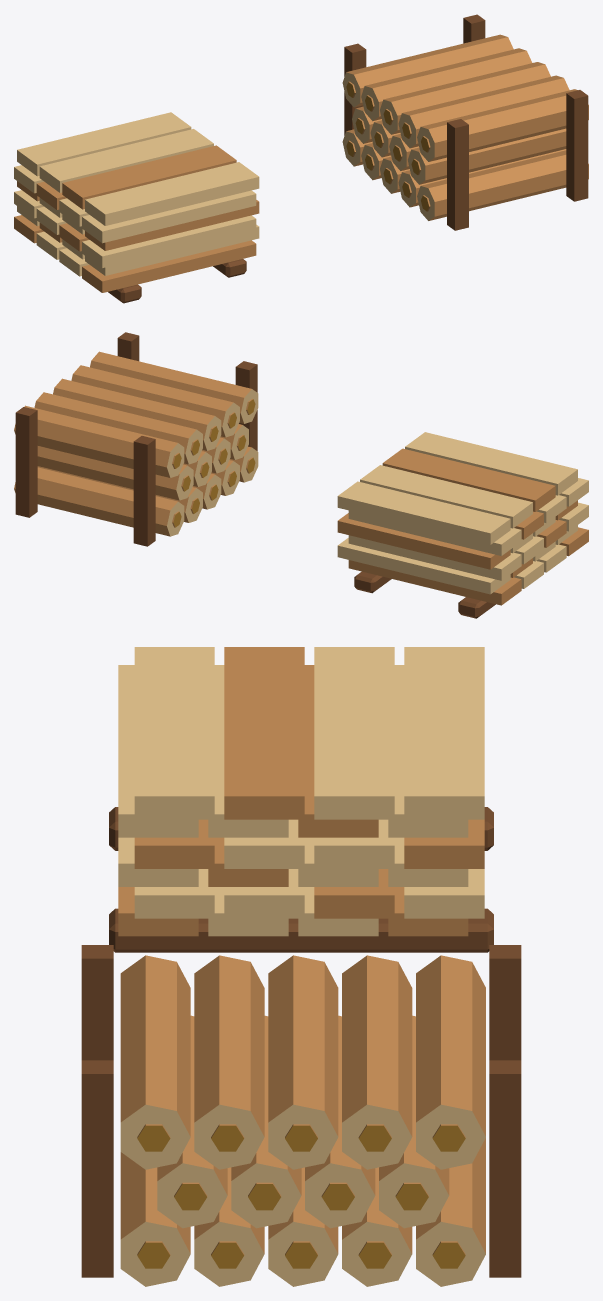
File: warehouse_l2_fill.fbx
3 renders of one model, top to bottom at view 1: azimuth 30°, elevation 25°; view 2: azimuth 150°, elevation 25°; view 3: azimuth 270°, elevation 25°, orthographic. The views are drawn at different scales.
Visible parts, largest first — view 1: Fill_planks_3, Fill_logs_3, Fill_logs_1, Fill_planks_1, Fill_planks_2, Fill_logs_2; view 2: Fill_planks_3, Fill_logs_3, Fill_logs_1, Fill_planks_1, Fill_planks_2, Fill_logs_2; view 3: Fill_logs_3, Fill_planks_3, Fill_logs_1, Fill_planks_1, Fill_logs_2, Fill_planks_2.
Part boxes in pixels (bbox=[...]): Fill_planks_3: bbox=[14, 112, 259, 243]; Fill_logs_3: bbox=[342, 34, 588, 161]; Fill_logs_1: bbox=[342, 14, 588, 230]; Fill_planks_1: bbox=[14, 206, 259, 303]; Fill_planks_2: bbox=[14, 181, 259, 268]; Fill_logs_2: bbox=[352, 106, 566, 184]; Fill_planks_3: bbox=[337, 432, 588, 555]; Fill_logs_3: bbox=[14, 351, 258, 477]; Fill_logs_1: bbox=[14, 332, 258, 546]; Fill_planks_1: bbox=[337, 525, 588, 618]; Fill_planks_2: bbox=[337, 500, 588, 580]; Fill_logs_2: bbox=[37, 424, 248, 500]; Fill_logs_3: bbox=[120, 955, 485, 1169]; Fill_planks_3: bbox=[118, 647, 484, 837]; Fill_logs_1: bbox=[81, 945, 521, 1286]; Fill_planks_1: bbox=[109, 807, 493, 952]; Fill_logs_2: bbox=[157, 1015, 449, 1228]; Fill_planks_2: bbox=[118, 819, 484, 886].
Size of the model in its own units: 0.8364 by 0.168 by 0.3288.
